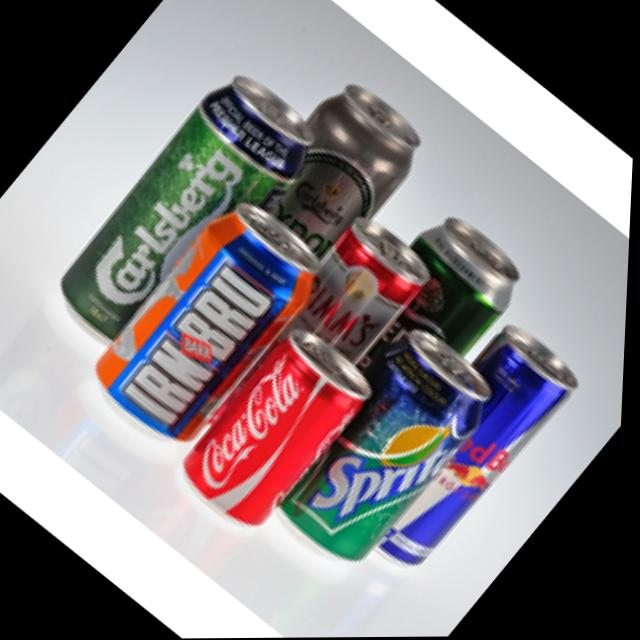aluminum_soda_cans: (52, 72, 320, 360), (89, 196, 338, 456), (267, 318, 514, 577), (350, 327, 585, 582), (183, 325, 383, 534), (247, 69, 443, 270), (300, 215, 449, 365)
